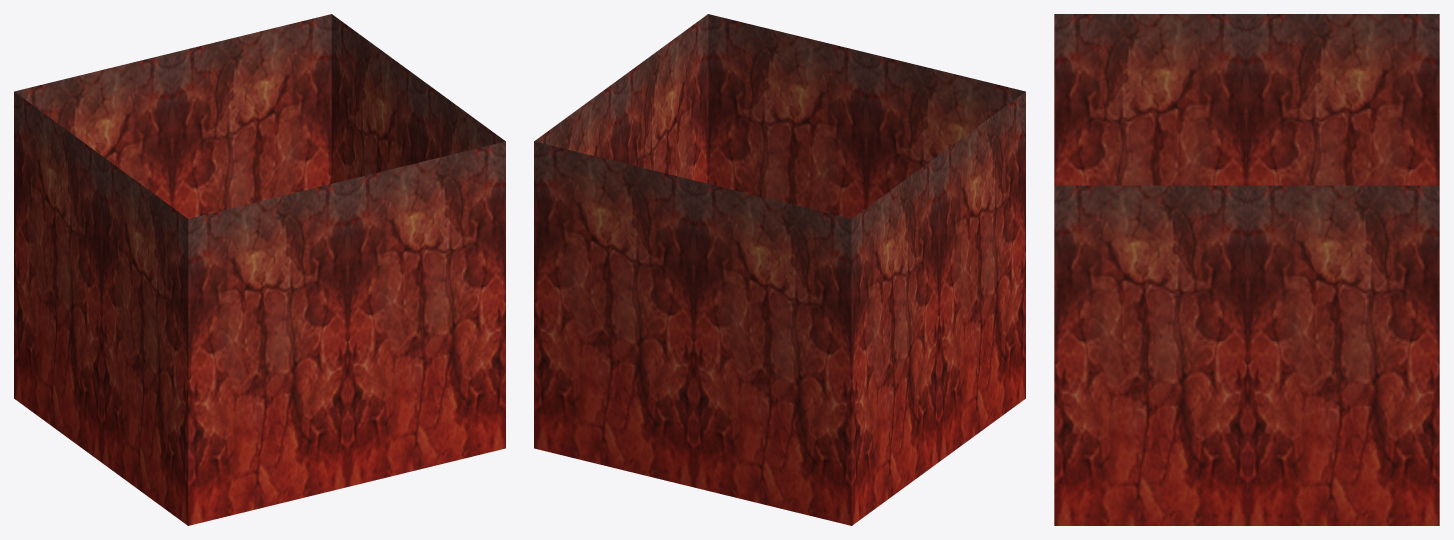
The model's file is huoshan_Ground_pvp_07.FBX.
3 views of the same model, side by side, from view 1: azimuth 30°, elevation 25°; view 2: azimuth 150°, elevation 25°; view 3: azimuth 270°, elevation 25° (orthographic). The views are drawn at different scales.
Parts seen in each view (by area): view 1: huoshan_Ground_pvp_07; view 2: huoshan_Ground_pvp_07; view 3: huoshan_Ground_pvp_07.
Boxes of the visible parts, x1,y1,x2,y2 form: huoshan_Ground_pvp_07: (14, 14, 505, 525); huoshan_Ground_pvp_07: (534, 14, 1025, 525); huoshan_Ground_pvp_07: (1054, 14, 1439, 525).
Size of the model in its own units: 1071 by 989 by 1016.
